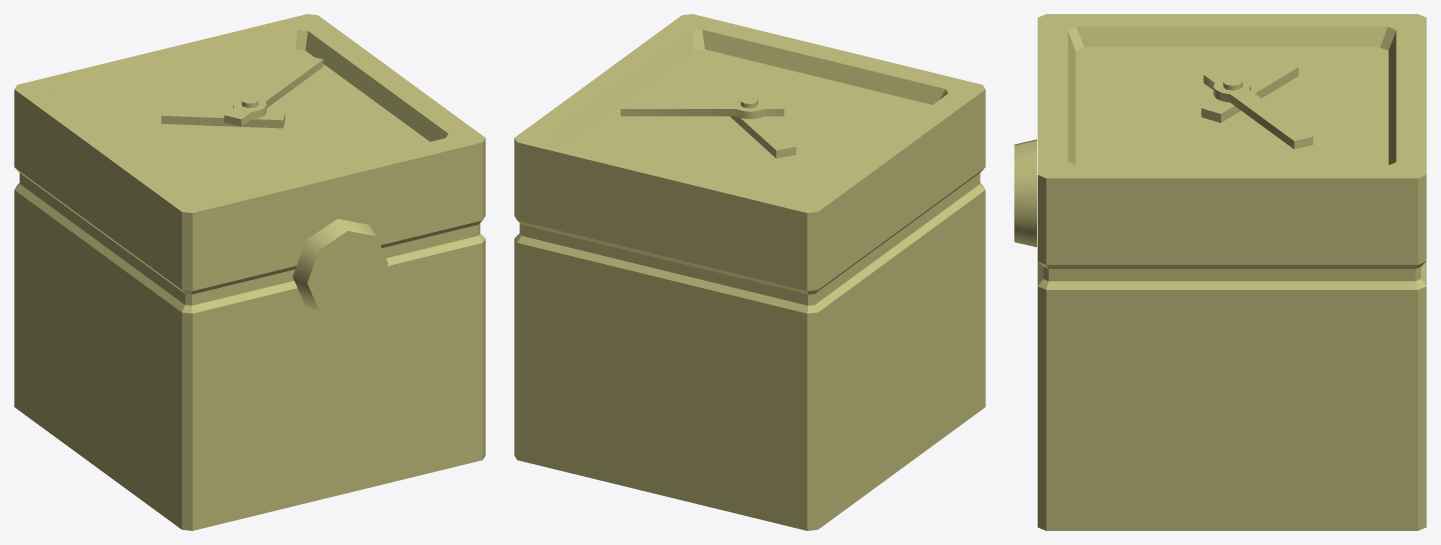
File: clock.glb
3 renders of one model, left to right at view 1: azimuth 30°, elevation 25°; view 2: azimuth 150°, elevation 25°; view 3: azimuth 270°, elevation 25°, orthographic. The views are drawn at different scales.
Visible parts, largest first — view 1: clock; view 2: clock; view 3: clock.
Boxes of the visible parts, x1,y1,x2,y2 form: clock: (14, 14, 485, 530); clock: (514, 14, 985, 530); clock: (1014, 14, 1426, 530).
Bounding box in the file's own units: 0.9 × 0.9377 × 0.954.
